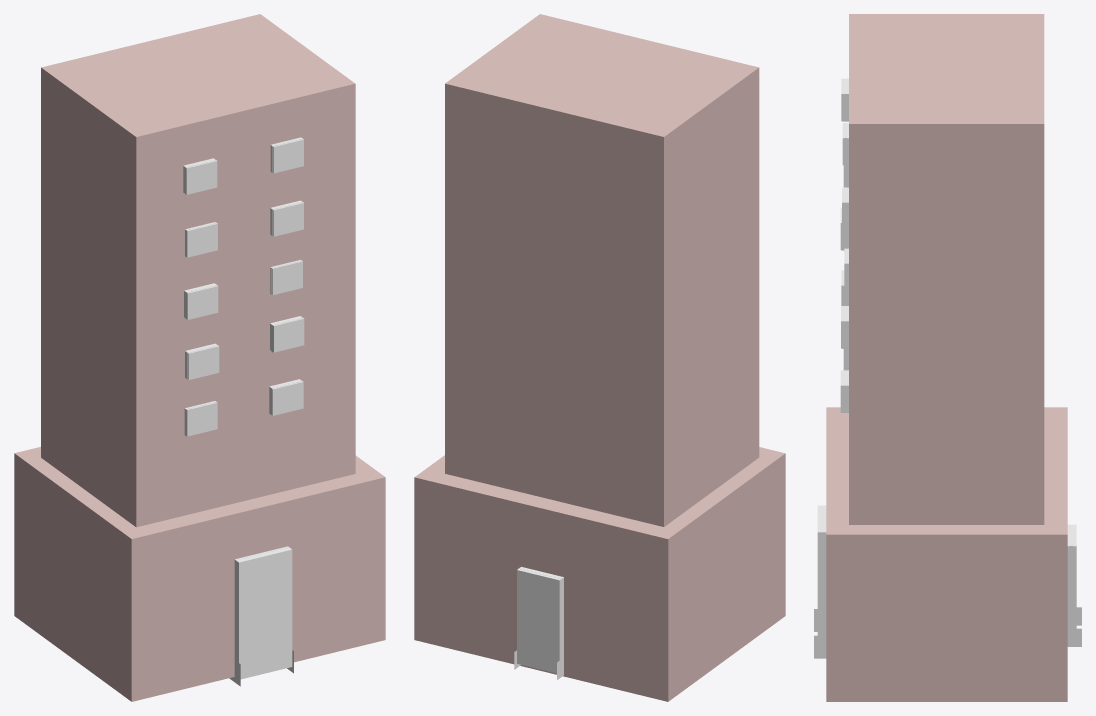
The model's file is 9c4a4fcb-6047-4c54-be0b-cf2618dc0f10.gltf.
3 views of the same model, side by side, from view 1: azimuth 30°, elevation 25°; view 2: azimuth 150°, elevation 25°; view 3: azimuth 270°, elevation 25° (orthographic). The views are drawn at different scales.
Visible parts, largest first — view 1: Cube, CTRL_Hole, CTRL_Hole.006, CTRL_Hole.003, CTRL_Hole.007, CTRL_Hole.002, CTRL_Hole.005, CTRL_Hole.009, CTRL_Hole.010, CTRL_Hole.004, CTRL_Hole.001, CTRL_Hole.008; view 2: Cube, CTRL_Hole.011; view 3: Cube, CTRL_Hole, CTRL_Hole.011.
Boxes of the visible parts, x1=… form: Cube: x1=14, y1=14, x2=385, y2=701; CTRL_Hole: x1=235, y1=547, x2=292, y2=679; CTRL_Hole.006: x1=269, y1=379, x2=303, y2=415; CTRL_Hole.003: x1=184, y1=283, x2=218, y2=319; CTRL_Hole.007: x1=270, y1=316, x2=304, y2=352; CTRL_Hole.002: x1=185, y1=343, x2=219, y2=379; CTRL_Hole.005: x1=183, y1=158, x2=217, y2=194; CTRL_Hole.009: x1=270, y1=200, x2=303, y2=236; CTRL_Hole.010: x1=270, y1=137, x2=303, y2=173; CTRL_Hole.004: x1=185, y1=222, x2=217, y2=257; CTRL_Hole.001: x1=184, y1=401, x2=217, y2=436; CTRL_Hole.008: x1=271, y1=260, x2=302, y2=295; Cube: x1=414, y1=14, x2=785, y2=701; CTRL_Hole.011: x1=517, y1=567, x2=563, y2=673; Cube: x1=826, y1=14, x2=1067, y2=701; CTRL_Hole: x1=817, y1=505, x2=826, y2=635; CTRL_Hole.011: x1=1067, y1=524, x2=1076, y2=642.
Bounding box in the file's own units: 9.99 × 21 × 8.88.
